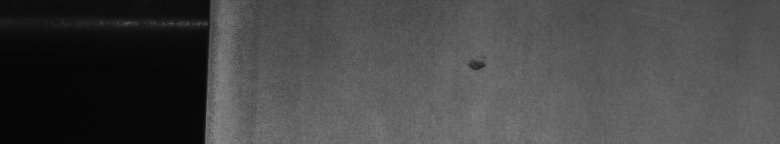fi: (465, 56, 486, 72)
